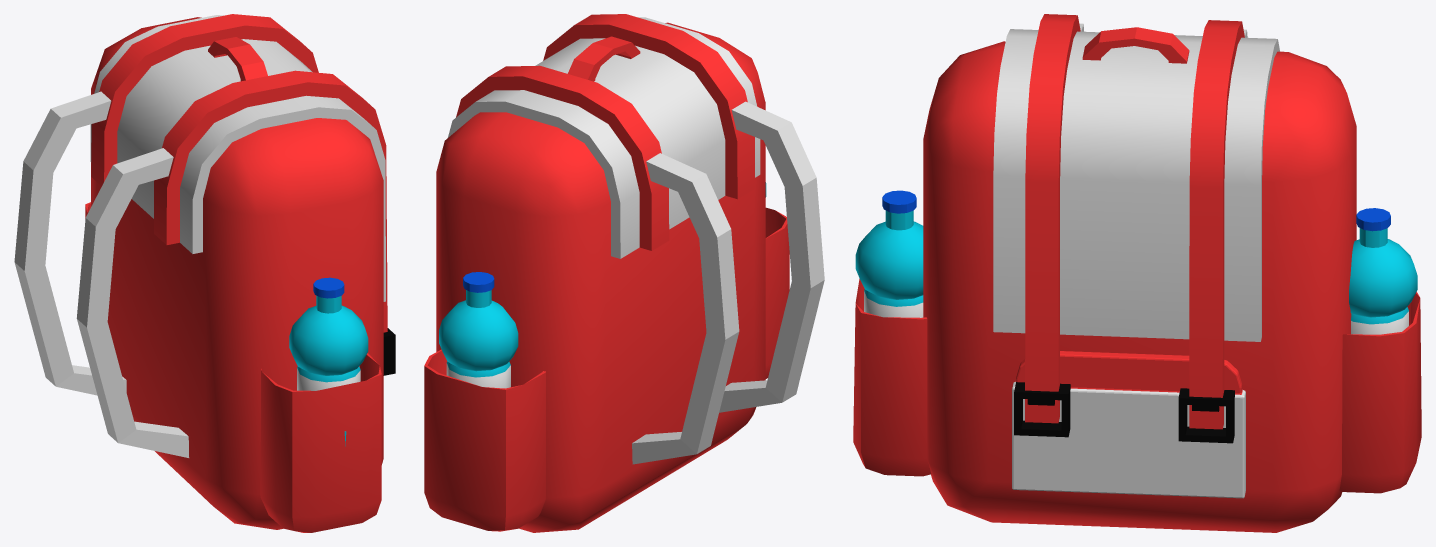
File: Bag.fbx
3 renders of one model, left to right at view 1: azimuth 30°, elevation 25°; view 2: azimuth 150°, elevation 25°; view 3: azimuth 270°, elevation 25°, orthographic. The views are drawn at different scales.
Visible parts, largest first — view 1: bag, bottle_02; view 2: bag, bottle_01; view 3: bag, bottle_02, bottle_01.
Part boxes in pixels (left/top/right/bottom): bag: left=14, top=14, right=395, bottom=532; bottle_02: left=289, top=277, right=368, bottom=446; bag: left=424, top=14, right=824, bottom=532; bottle_01: left=439, top=272, right=518, bottom=388; bag: left=853, top=14, right=1421, bottom=532; bottle_02: left=855, top=190, right=923, bottom=317; bottle_01: left=1349, top=208, right=1417, bottom=334.
Size of the model in its own units: 112 by 150 by 163.
